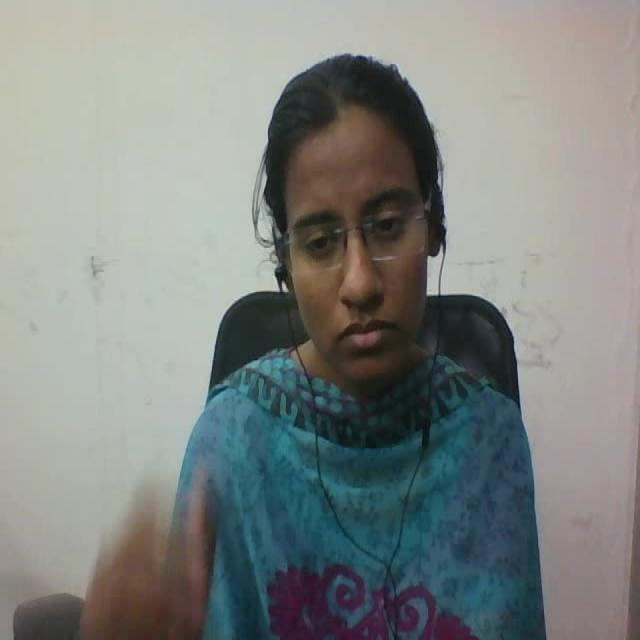Bored: (219, 35, 501, 484)
